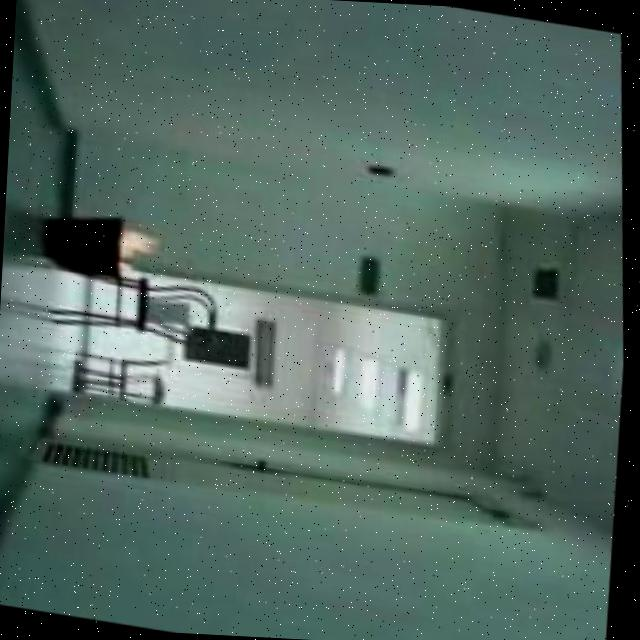fire: (113, 217, 163, 270)
